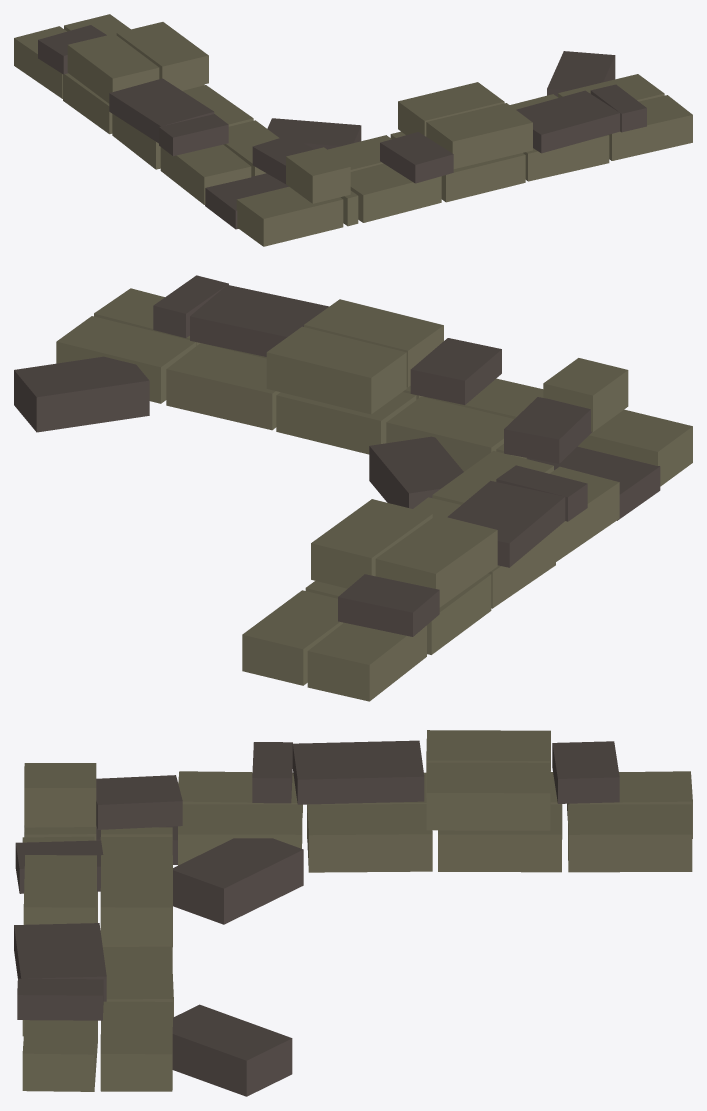
The model's file is SM_PretilEsquina_v1_Talud_e2_MuyDanado_LOD0.fbx.
3 views of the same model, one above another, from view 1: azimuth 30°, elevation 25°; view 2: azimuth 150°, elevation 25°; view 3: azimuth 270°, elevation 25° (orthographic). The views are drawn at different scales.
Parts seen in each view (by area): view 1: SM_pretil_azotea_v26_LOD0; view 2: SM_pretil_azotea_v26_LOD0; view 3: SM_pretil_azotea_v26_LOD0.
Part boxes in pixels (bbox=[...]): SM_pretil_azotea_v26_LOD0: bbox=[14, 14, 692, 246]; SM_pretil_azotea_v26_LOD0: bbox=[14, 275, 692, 701]; SM_pretil_azotea_v26_LOD0: bbox=[14, 730, 692, 1096].
Bounding box in the file's own units: 4.48 × 0.585 × 4.44.
